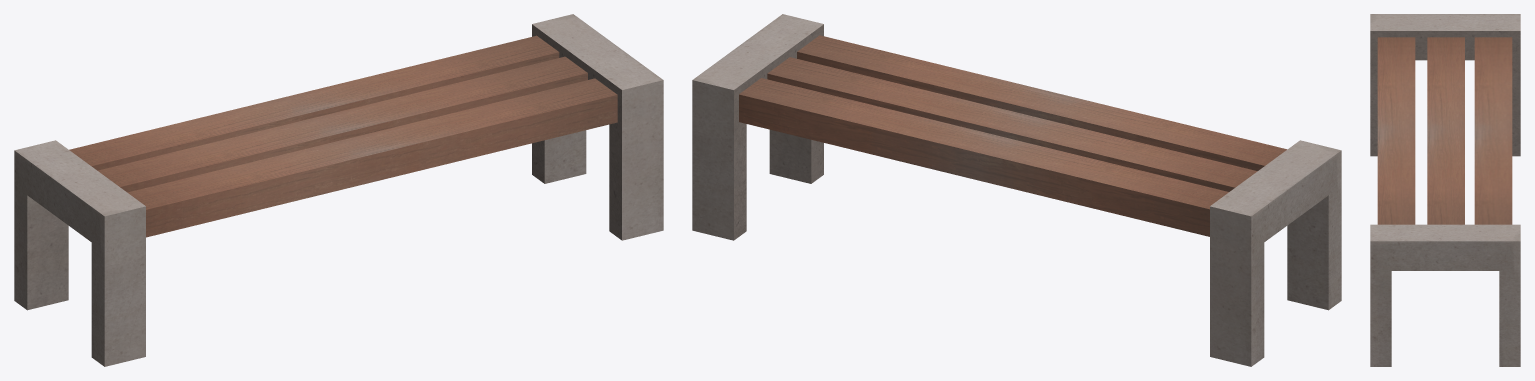
The picture shows the model from 3 angles, left to right: view 1: azimuth 30°, elevation 25°; view 2: azimuth 150°, elevation 25°; view 3: azimuth 270°, elevation 25°; orthographic projection. The views are drawn at different scales.
Visible parts, largest first — view 1: Box001, Box007, Box004, Box005, Box006; view 2: Box006, Box007, Box004, Box001, Box005; view 3: Box004, Box001, Box006, Box005, Box007.
Boxes of the visible parts, box(x1,y1,x2,y2) form: Box001: box(127, 78, 617, 237); Box007: box(14, 140, 145, 366); Box004: box(532, 14, 663, 240); Box005: box(98, 56, 587, 192); Box006: box(69, 35, 559, 170); Box006: box(739, 78, 1228, 236); Box007: box(1210, 140, 1341, 366); Box004: box(692, 14, 823, 240); Box001: box(797, 35, 1287, 170); Box005: box(767, 57, 1257, 191); Box004: box(1370, 224, 1520, 366); Box001: box(1377, 37, 1415, 224); Box006: box(1474, 37, 1512, 224); Box005: box(1427, 37, 1464, 224); Box007: box(1370, 14, 1520, 156).
Size of the model in its own units: 45.4 by 11.68 by 12.7.
Materials: 1 (1 with a texture image).
